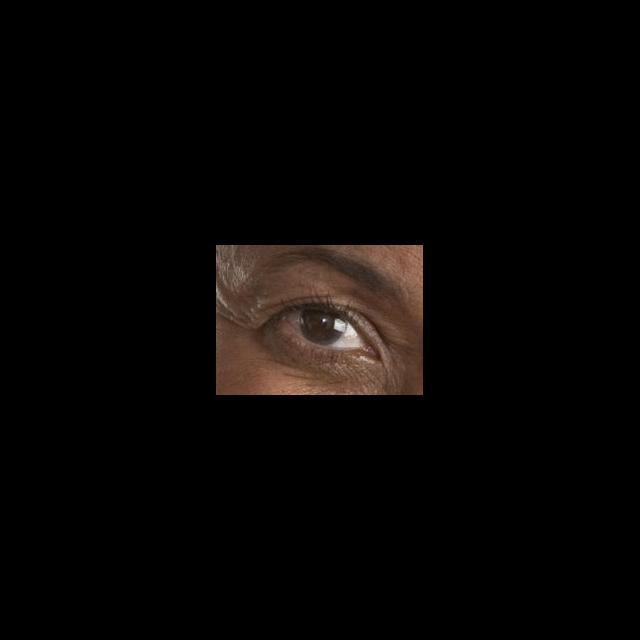eye: (283, 308, 366, 349)
iris: (301, 310, 347, 346)
